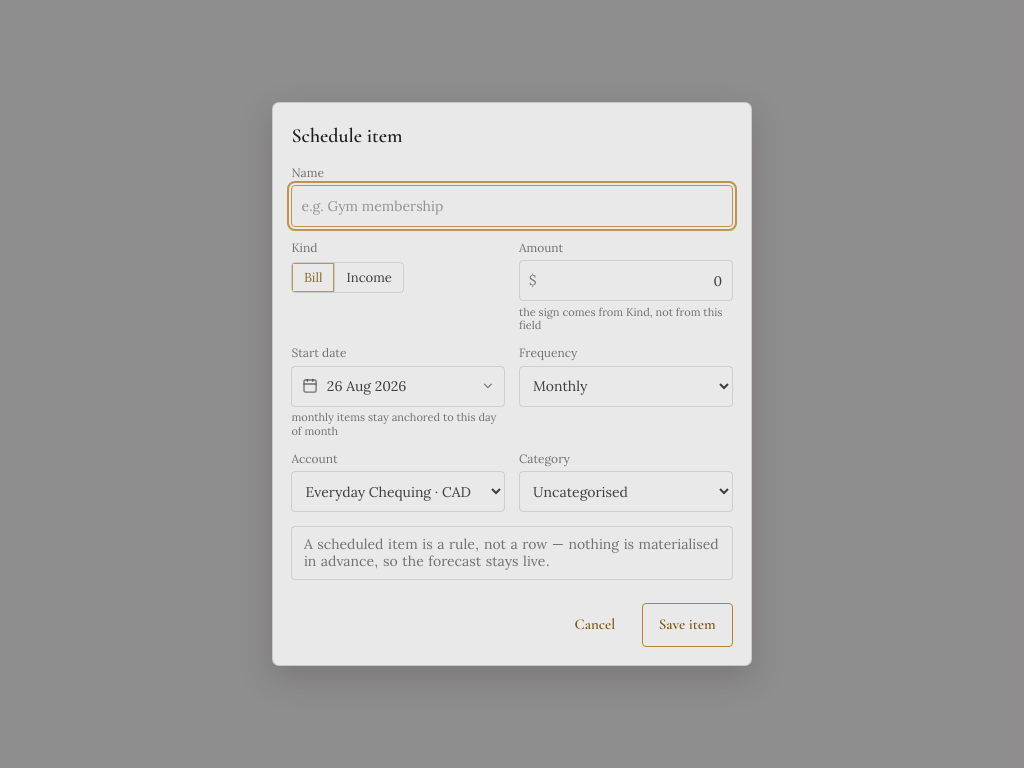
the form refuses its own invalid input without asking the server
Click the button "Save item". click: (687, 625)
box: x1=642 y1=603 x2=733 y2=647
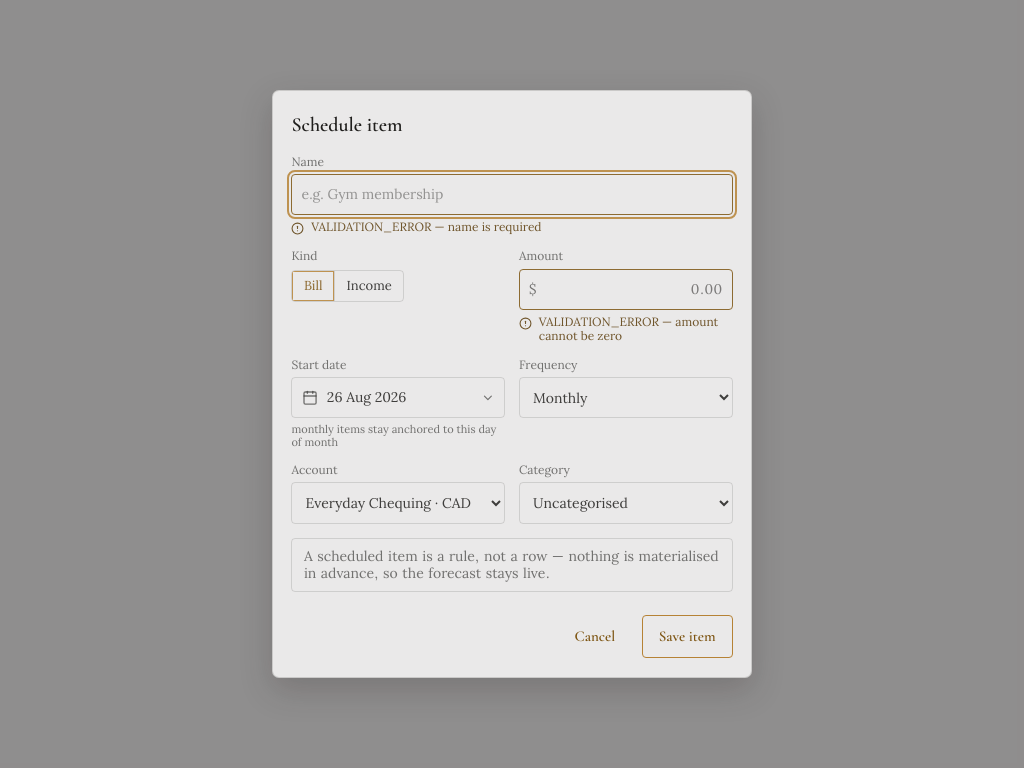
expect the text "VALIDATION_ERROR — name is required" is shown: met, box x1=291 y1=219 x2=542 y2=235
expect the text "VALIDATION_ERROR — amount cannot be zero" is shown: met, box x1=519 y1=315 x2=733 y2=344
